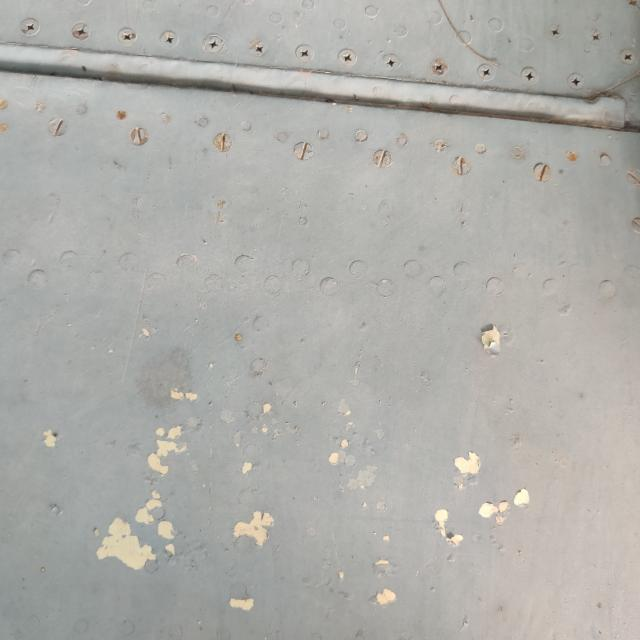paint-off: (70, 405, 224, 591), (412, 435, 538, 555), (232, 486, 294, 570), (461, 312, 518, 369)
